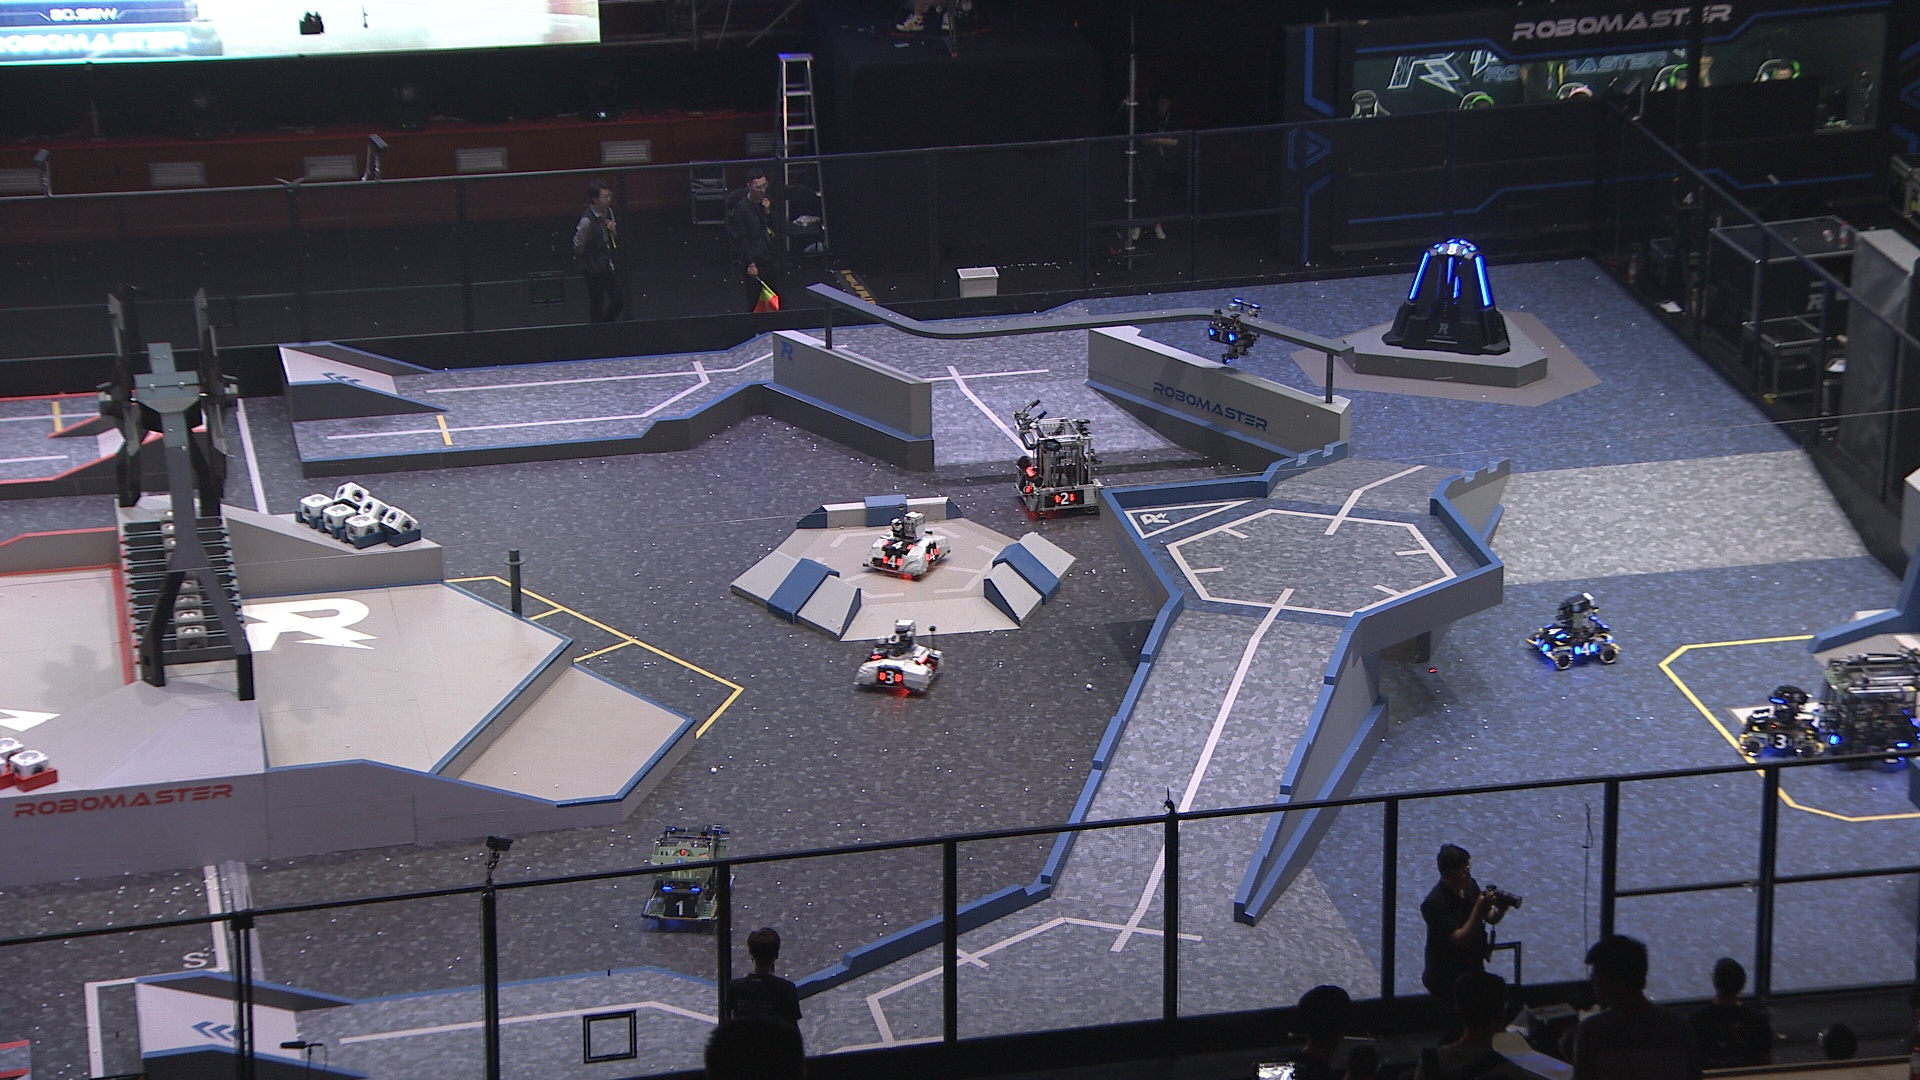armor: (1410, 249, 1432, 301), (1474, 257, 1494, 309), (661, 897, 699, 916), (1880, 745, 1912, 765), (1205, 327, 1238, 344), (876, 669, 903, 688), (1768, 731, 1793, 752), (880, 537, 913, 553), (1437, 243, 1470, 257), (1051, 491, 1077, 508), (1821, 727, 1840, 749), (1575, 640, 1598, 657), (1543, 622, 1567, 640), (880, 555, 905, 570), (1532, 637, 1549, 657), (1749, 708, 1768, 725), (922, 659, 939, 679), (1444, 256, 1455, 285), (924, 545, 940, 562), (1019, 479, 1034, 496), (1452, 278, 1462, 295)
base: (1379, 237, 1513, 353)
car: (1816, 650, 1920, 770), (638, 822, 738, 928), (1010, 418, 1102, 526), (1524, 593, 1622, 674), (851, 616, 942, 698), (1737, 684, 1826, 764), (862, 510, 949, 580)
watcher: (1204, 295, 1262, 365)
